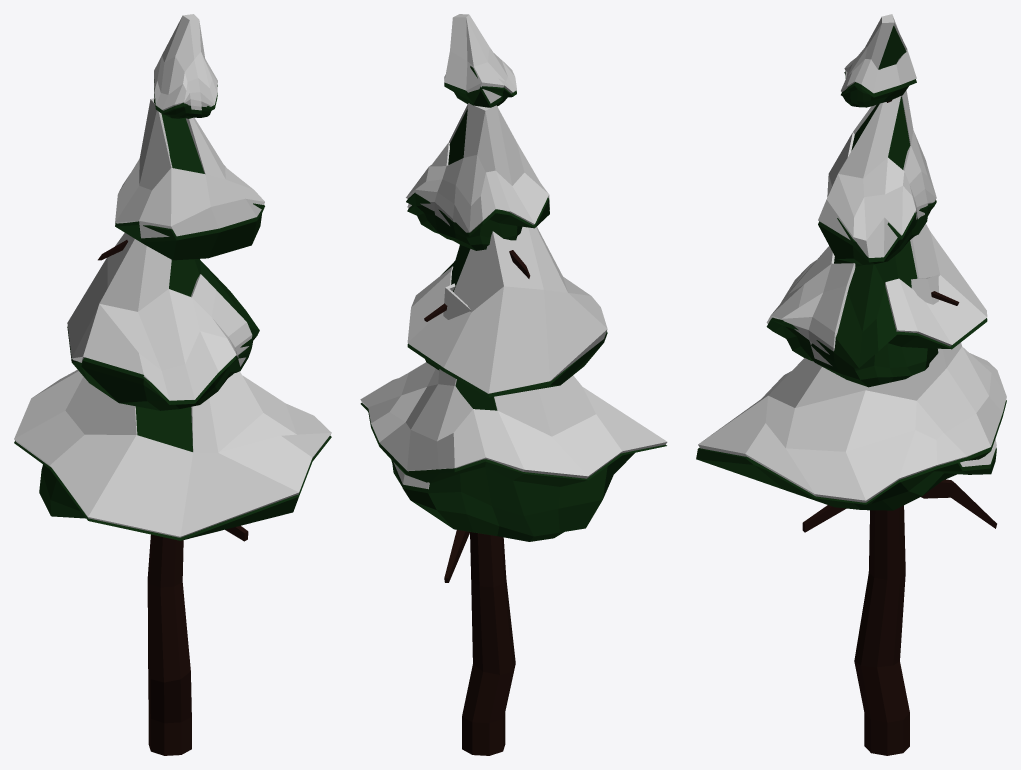
File: ElkSnow3.obj
3 renders of one model, left to right at view 1: azimuth 30°, elevation 25°; view 2: azimuth 150°, elevation 25°; view 3: azimuth 270°, elevation 25°, orthographic.
Parts seen in each view (by area): view 1: Cube.230, Cube.233, Cube.232, Cylinder.122, Cube.228, Cube.229, Cube.227, Cube.231, Cube.226; view 2: Cube.230, Cube.233, Cube.229, Cylinder.122, Cube.232, Cube.231, Cube.227, Cube.228, Cube.226; view 3: Cube.230, Cylinder.122, Cube.233, Cube.232, Cube.228, Cube.229, Cube.227, Cube.231, Cube.226.
Boxes of the visible parts, bbox=[...] form: Cube.230: bbox=[14, 369, 331, 537]; Cube.233: bbox=[67, 233, 252, 400]; Cube.232: bbox=[115, 98, 264, 238]; Cylinder.122: bbox=[98, 240, 248, 755]; Cube.228: bbox=[67, 259, 259, 410]; Cube.229: bbox=[14, 406, 331, 540]; Cube.227: bbox=[115, 114, 264, 260]; Cube.231: bbox=[154, 14, 217, 110]; Cube.226: bbox=[154, 79, 217, 118]; Cube.230: bbox=[360, 283, 667, 489]; Cube.233: bbox=[407, 226, 607, 393]; Cube.229: bbox=[360, 379, 666, 541]; Cylinder.122: bbox=[424, 250, 530, 755]; Cube.232: bbox=[406, 103, 549, 232]; Cube.231: bbox=[444, 14, 516, 103]; Cube.227: bbox=[406, 109, 549, 250]; Cube.228: bbox=[407, 245, 607, 397]; Cube.226: bbox=[444, 66, 516, 107]; Cube.230: bbox=[698, 274, 1006, 502]; Cylinder.122: bbox=[802, 100, 996, 755]; Cube.233: bbox=[766, 223, 987, 365]; Cube.232: bbox=[818, 90, 936, 257]; Cube.228: bbox=[766, 240, 987, 387]; Cube.229: bbox=[696, 400, 1006, 510]; Cube.227: bbox=[818, 97, 936, 264]; Cube.231: bbox=[841, 14, 916, 93]; Cube.226: bbox=[841, 26, 916, 107].
Size of the model in its own units: 13.72 by 35.75 by 13.61.
